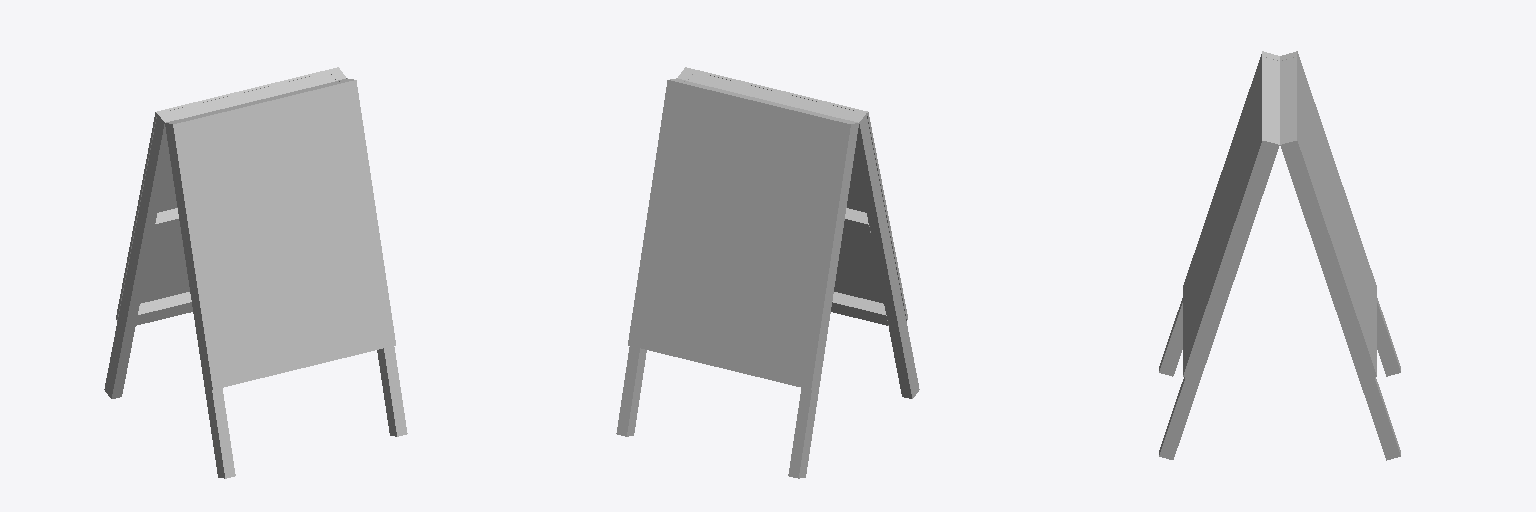
The model's file is A-kanban.obj.
3 renders of one model, left to right at view 1: azimuth 30°, elevation 25°; view 2: azimuth 150°, elevation 25°; view 3: azimuth 270°, elevation 25°, orthographic.
Parts seen in each view (by area): view 1: 立方体.009, 立方体.003, 立方体.008, 立方体.002, 立方体.013, 立方体, 立方体.004; view 2: 立方体.008, 立方体.002, 立方体.009, 立方体.003, 立方体.012, 立方体.001, 立方体.007; view 3: 立方体.008, 立方体.009, 立方体.001, 立方体, 立方体.012, 立方体.013, 立方体.003, 立方体.002.
Part boxes in pixels (left/top/right/bottom): 立方体.009: left=172, top=80, right=395, bottom=389; 立方体.003: left=104, top=111, right=174, bottom=398; 立方体.008: left=116, top=67, right=339, bottom=320; 立方体.002: left=165, top=120, right=235, bottom=478; 立方体.013: left=168, top=72, right=335, bottom=119; 立方体: left=338, top=78, right=407, bottom=436; 立方体.004: left=136, top=292, right=192, bottom=325; 立方体.008: left=628, top=80, right=851, bottom=389; 立方体.002: left=849, top=111, right=919, bottom=398; 立方体.009: left=684, top=67, right=907, bottom=320; 立方体.003: left=788, top=120, right=858, bottom=478; 立方体.012: left=688, top=72, right=855, bottom=119; 立方体.001: left=616, top=78, right=685, bottom=436; 立方体.007: left=831, top=292, right=888, bottom=325; 立方体.008: left=1294, top=51, right=1376, bottom=377; 立方体.009: left=1183, top=51, right=1264, bottom=377; 立方体.001: left=1280, top=136, right=1400, bottom=460; 立方体: left=1159, top=136, right=1279, bottom=459; 立方体.012: left=1265, top=57, right=1279, bottom=139; 立方体.013: left=1280, top=58, right=1293, bottom=139; 立方体.003: left=1280, top=52, right=1400, bottom=376; 立方体.002: left=1159, top=52, right=1279, bottom=376.
Size of the model in its own units: 8.16 by 13.62 by 9.33.